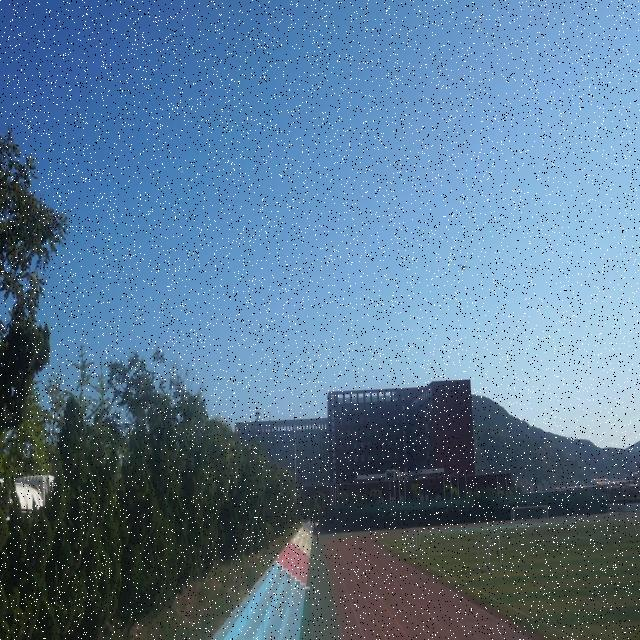UAV: (459, 263, 467, 272)
